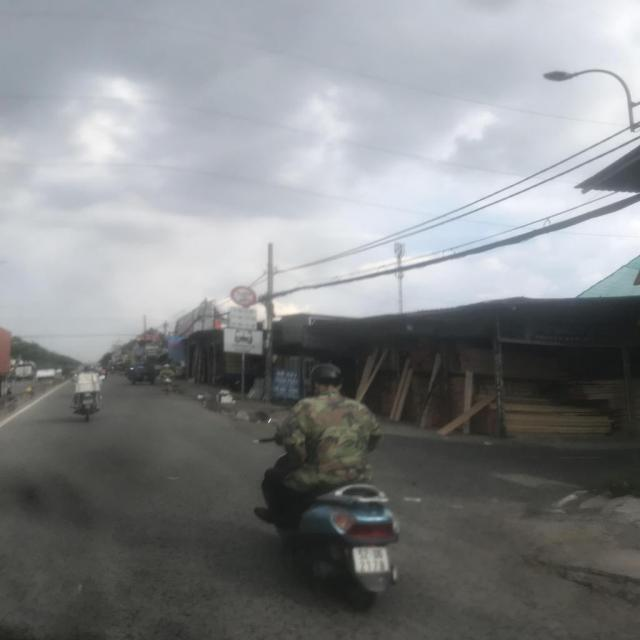cam_o_to_tai_va_xe_khach: (232, 287, 256, 308)
khac: (224, 328, 263, 355), (229, 306, 257, 330)
